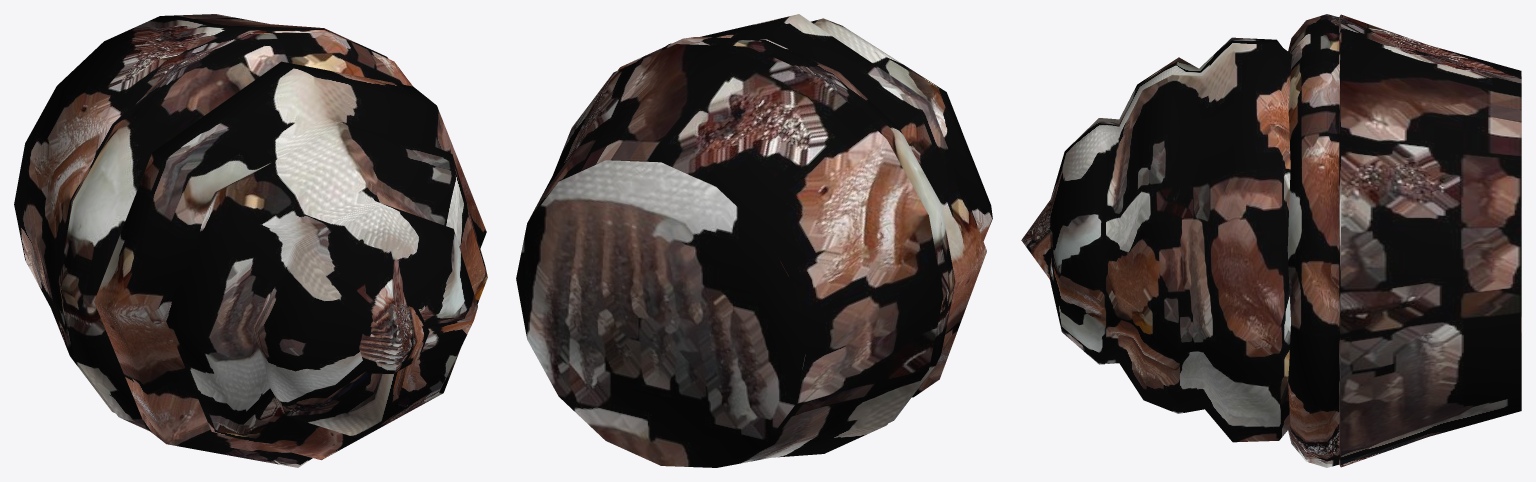
3 renders of one model, left to right at view 1: azimuth 30°, elevation 25°; view 2: azimuth 150°, elevation 25°; view 3: azimuth 270°, elevation 25°, orthographic.
Bounding box in the file's own units: 0.9081 × 0.9081 × 1.
